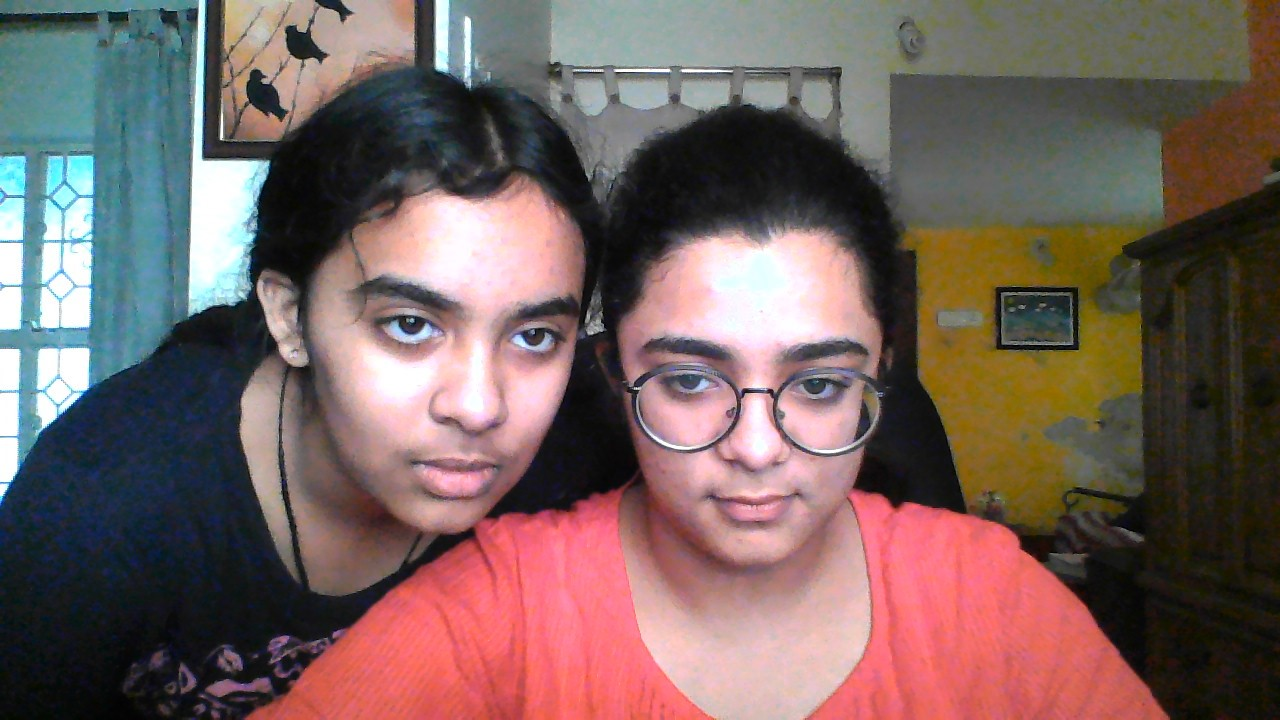person: (216, 68, 601, 605), (615, 141, 956, 635)
